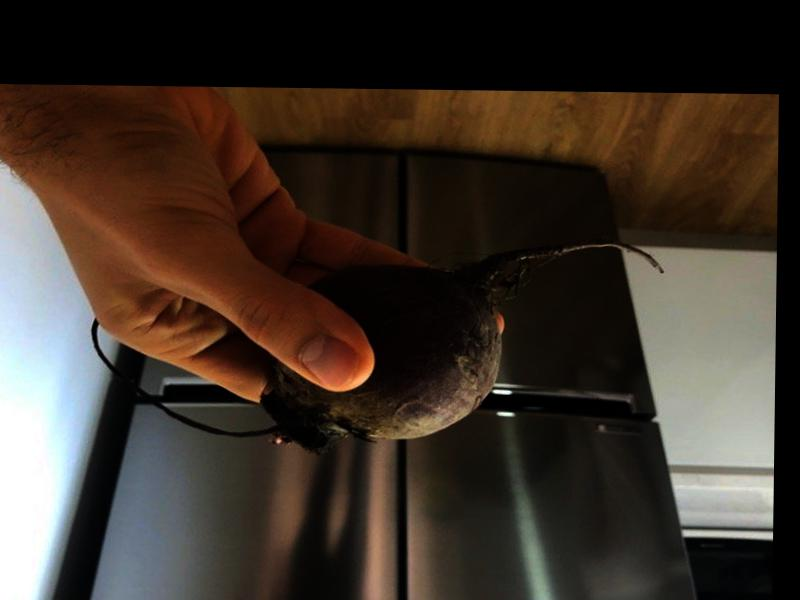Beet: (90, 233, 668, 454)
